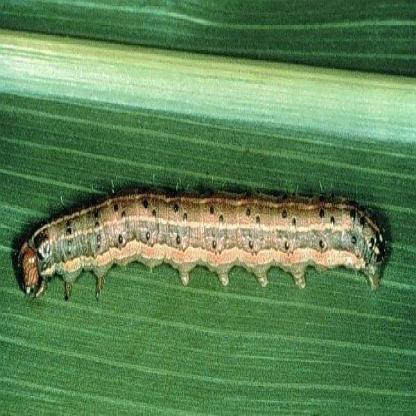armyworm: (10, 170, 392, 314)
